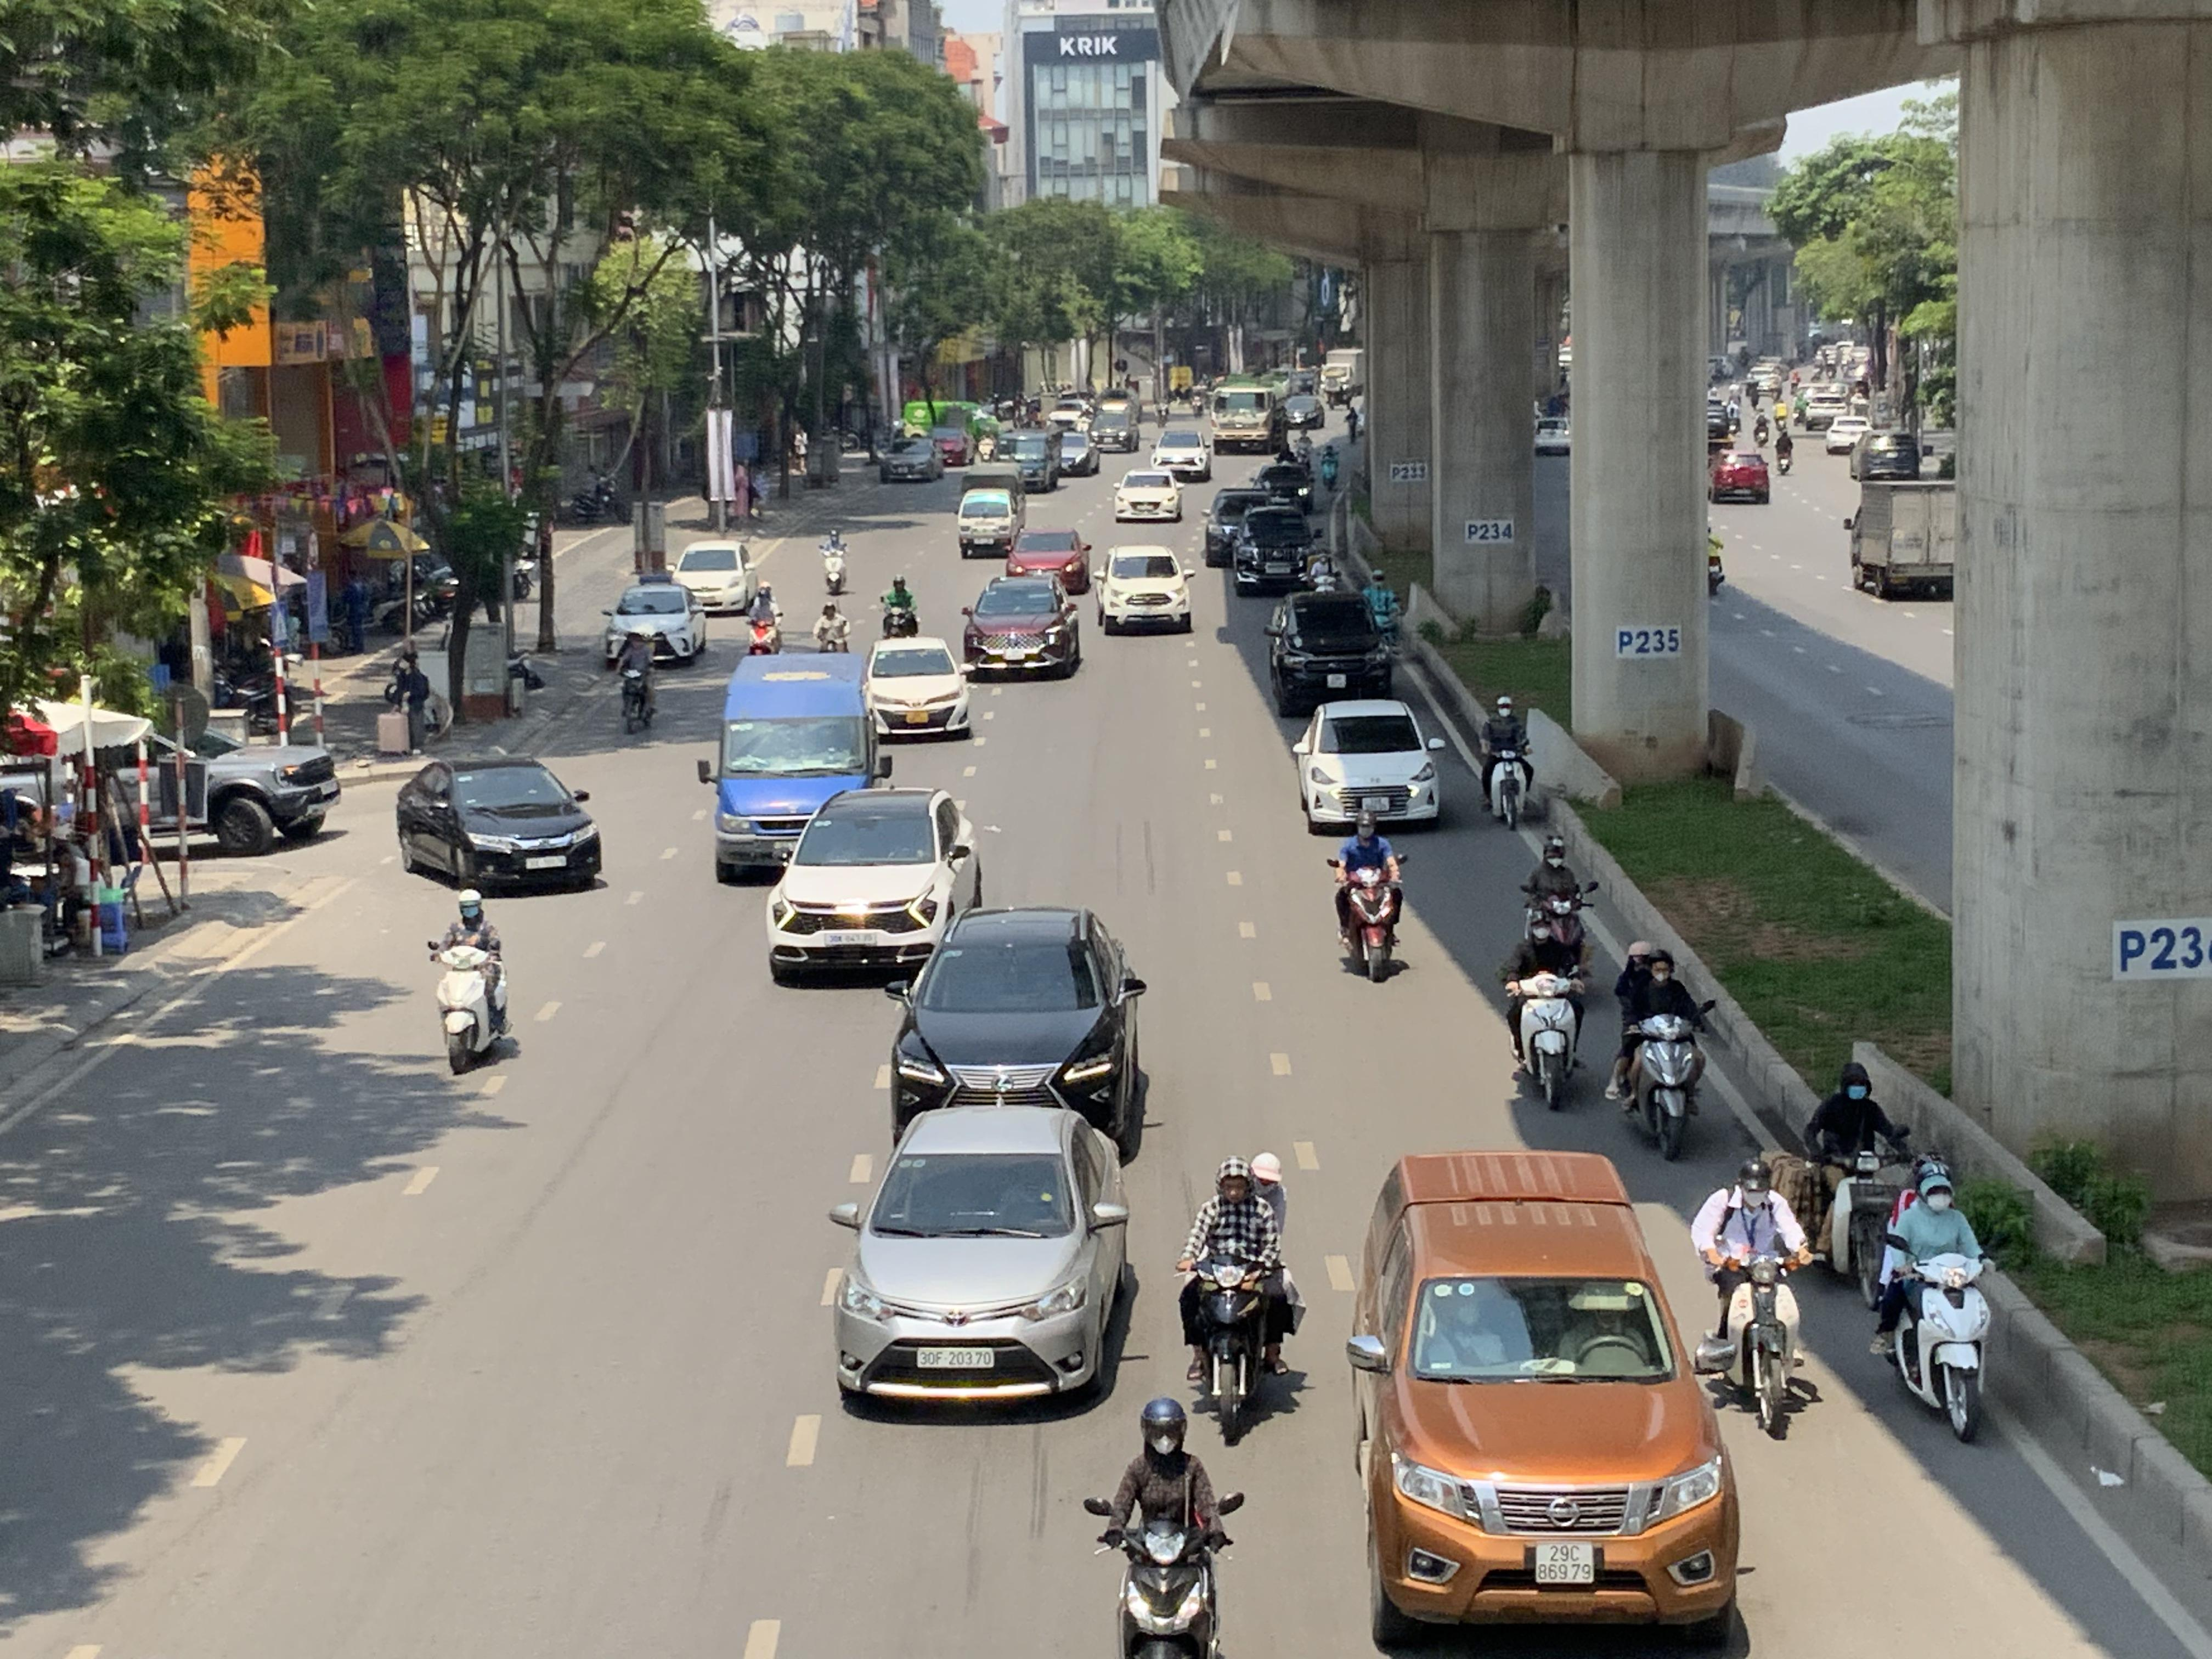BSD: (916, 1347, 995, 1368)
BSV: (1534, 1542, 1595, 1586)
bus: (697, 652, 888, 882)
car: (1343, 1148, 1747, 1650), (827, 1101, 1141, 1413), (881, 906, 1151, 1161), (0, 697, 343, 857), (765, 784, 986, 986), (395, 756, 604, 894), (1291, 697, 1444, 833), (1264, 589, 1395, 713), (960, 573, 1082, 680), (862, 636, 972, 739), (1094, 544, 1195, 634), (603, 582, 709, 667), (1231, 505, 1318, 596), (672, 537, 759, 615), (1003, 526, 1092, 594), (1204, 484, 1278, 565), (1113, 465, 1184, 523), (1709, 446, 1771, 504), (1151, 430, 1214, 486), (1249, 464, 1317, 511), (876, 436, 944, 481), (1089, 411, 1143, 451), (1057, 432, 1103, 476)
motorbike: (1089, 1394, 1244, 1659), (1177, 1154, 1301, 1446), (1696, 1152, 1818, 1441), (1872, 1159, 1994, 1445), (1801, 1060, 1914, 1304), (1611, 945, 1710, 1162), (1501, 904, 1590, 1112), (428, 892, 516, 1077), (1329, 810, 1407, 983), (1517, 835, 1597, 967), (1477, 695, 1540, 830), (617, 633, 658, 734), (745, 582, 784, 657), (878, 573, 920, 641), (1366, 568, 1399, 648), (819, 525, 852, 594), (812, 596, 852, 653), (1303, 545, 1341, 592)
truck: (1846, 477, 1956, 601), (1207, 375, 1296, 457), (954, 462, 1026, 558), (993, 429, 1066, 493)
